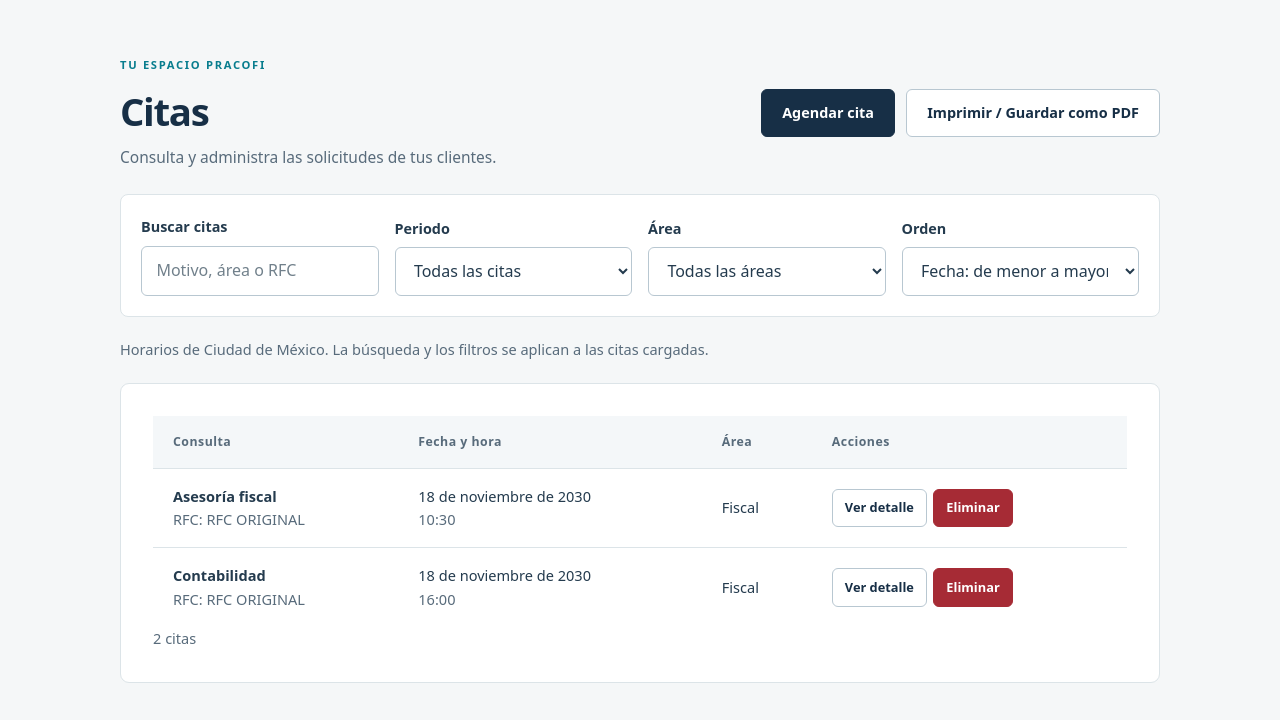
booking lists › confirms deletion first and refreshes correctly after two successive deletions
The image size is (1280, 720).
Click the button with aria-label "Eliminar cita: Asesoría fiscal".
click(973, 508)  # box x1=933 y1=489 x2=1013 y2=527
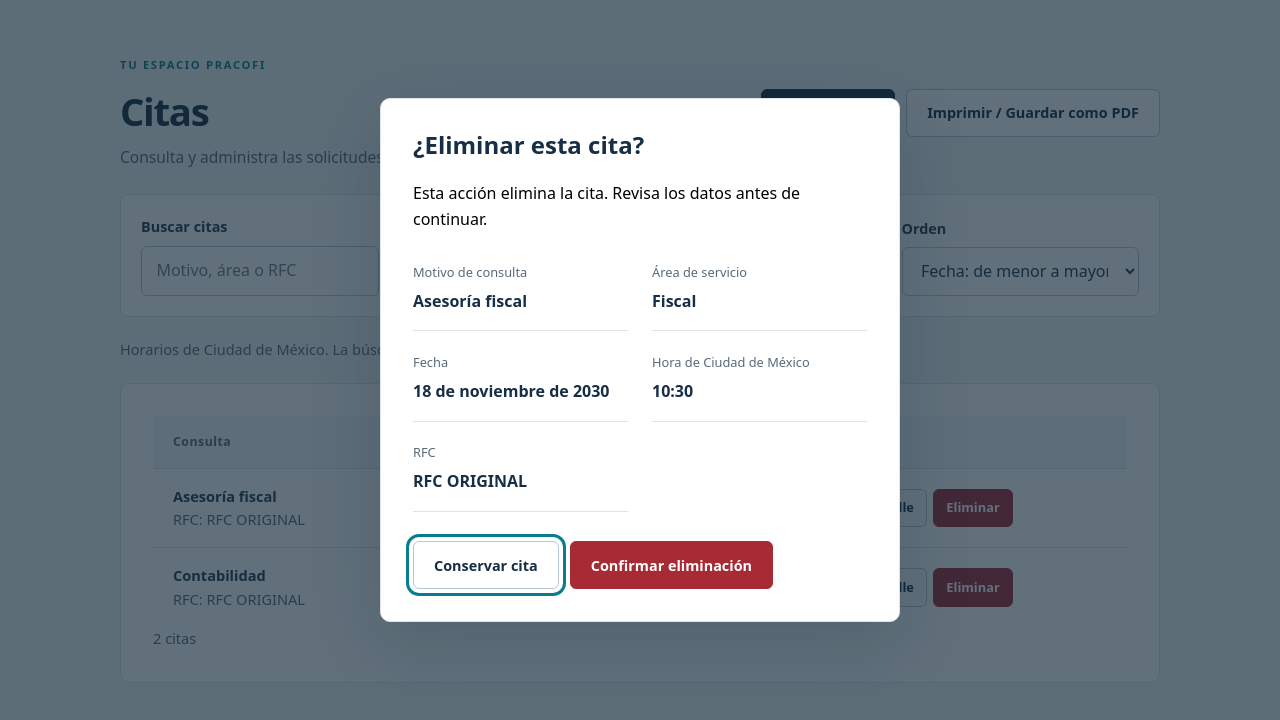
expect the text "Asesoría fiscal" is shown: met, box x1=413 y1=290 x2=527 y2=312
Click the button "Confirmar eliminación".
click(671, 565)  # box x1=570 y1=541 x2=773 y2=589
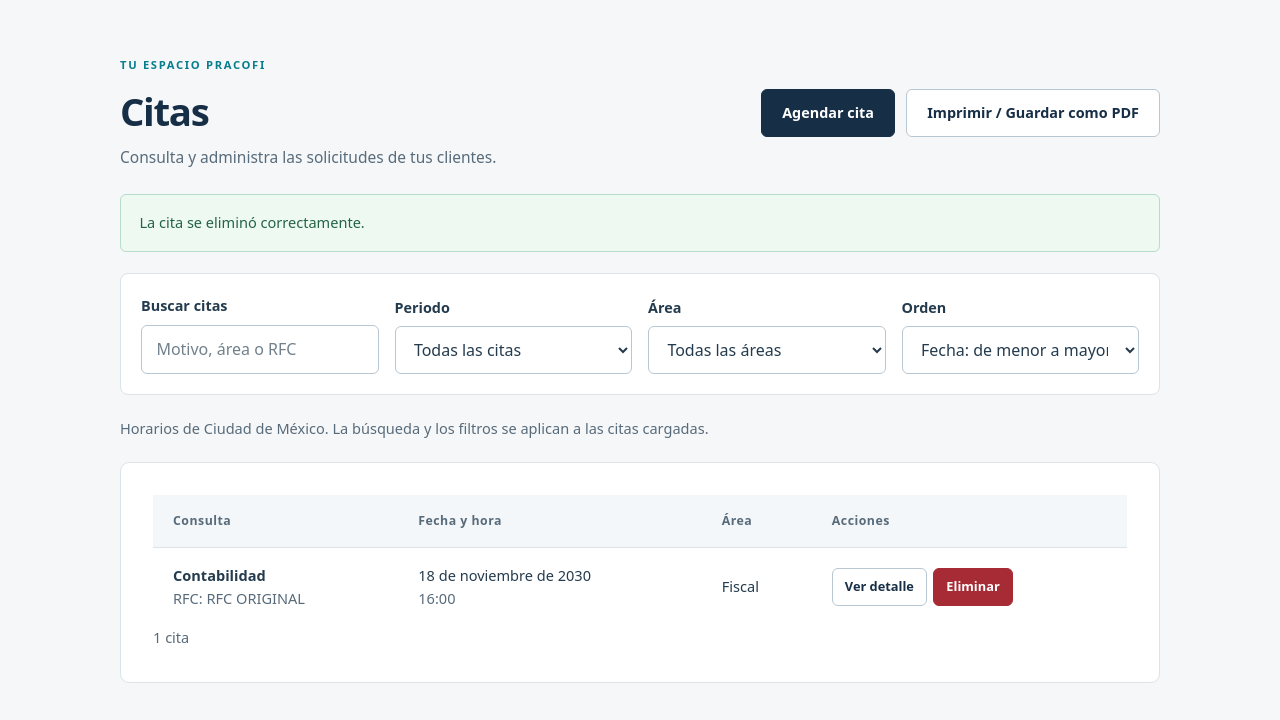
Click the button with aria-label "Eliminar cita: Contabilidad".
click(973, 587)  # box x1=933 y1=568 x2=1013 y2=606
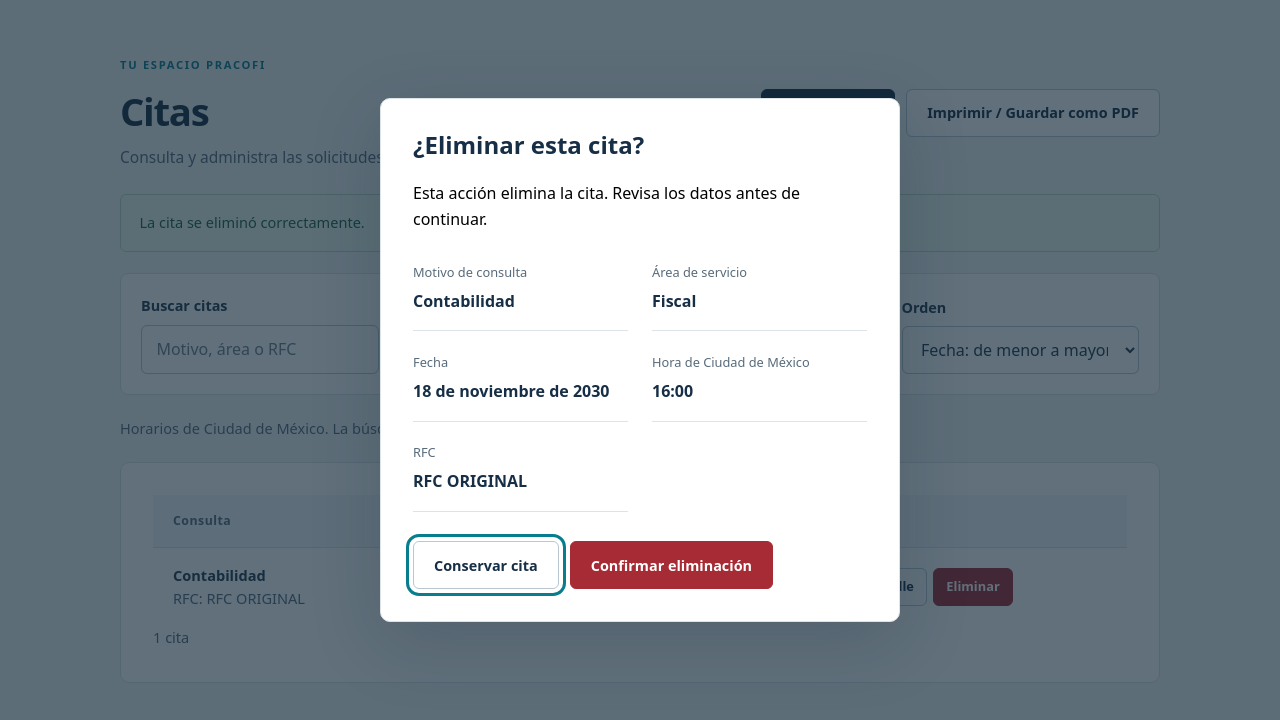
Click the button "Confirmar eliminación".
click(671, 565)  # box x1=570 y1=541 x2=773 y2=589
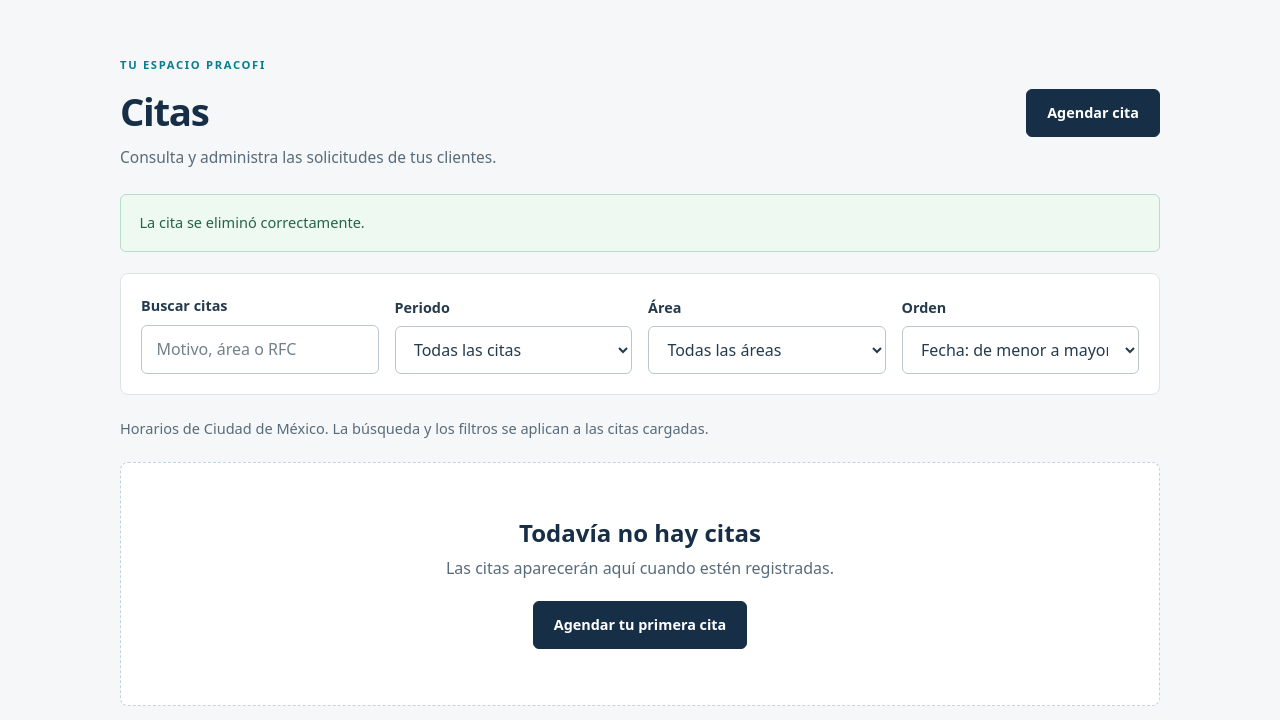
expect the heading "Todavía no hay citas" is shown: met, box x1=519 y1=516 x2=761 y2=549
